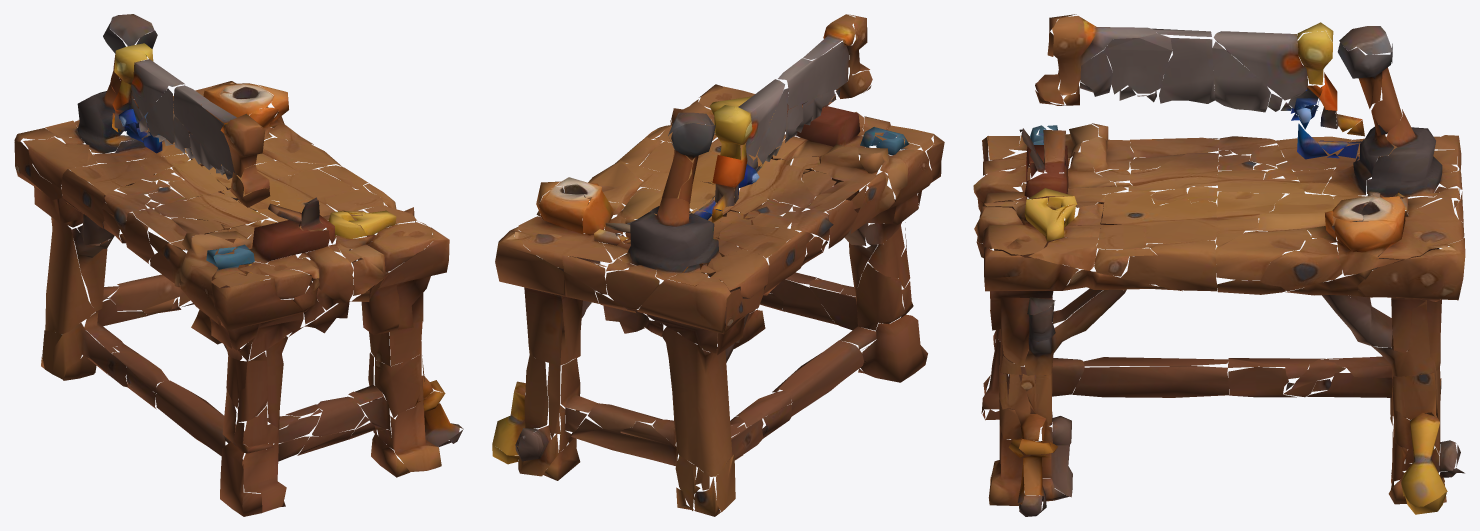
Rendered from bancada.glb.
The picture shows the model from 3 angles, left to right: view 1: azimuth 30°, elevation 25°; view 2: azimuth 150°, elevation 25°; view 3: azimuth 270°, elevation 25°; orthographic projection. The views are drawn at different scales.
Visible parts, largest first — view 1: tripo_node_ba7098b6-1755-4e04-9c52-abe42ab88c52; view 2: tripo_node_ba7098b6-1755-4e04-9c52-abe42ab88c52; view 3: tripo_node_ba7098b6-1755-4e04-9c52-abe42ab88c52.
Boxes of the visible parts, x1,y1,x2,y2 form: tripo_node_ba7098b6-1755-4e04-9c52-abe42ab88c52: (14,14,463,516); tripo_node_ba7098b6-1755-4e04-9c52-abe42ab88c52: (492,14,944,516); tripo_node_ba7098b6-1755-4e04-9c52-abe42ab88c52: (973,14,1465,516).
Size of the model in its own units: 0.6755 by 0.9019 by 0.9994.
1 material, 1 textured.
